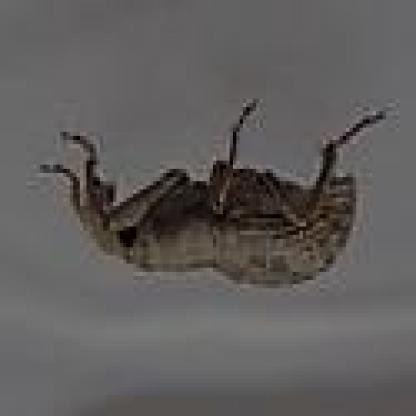rice-bug: (48, 102, 384, 286)
